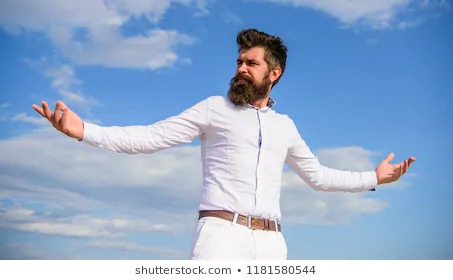F_belt: (197, 207, 286, 234)
F_dress pants: (192, 209, 291, 260)
F_shirt: (83, 94, 375, 217)
